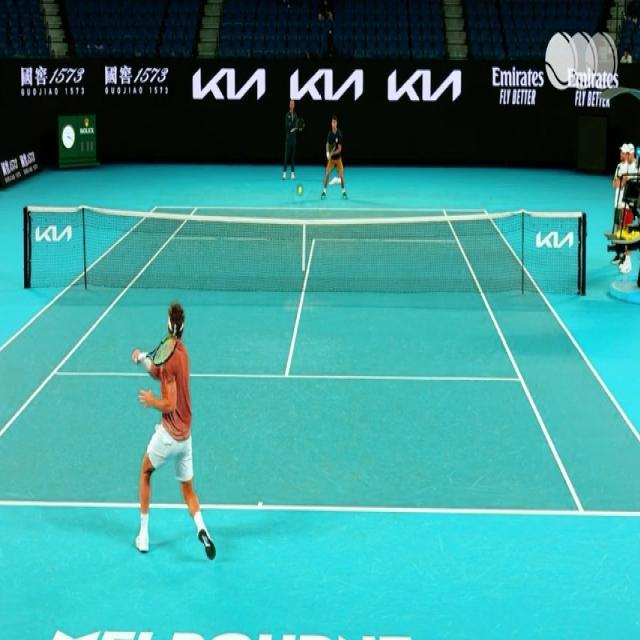forehand-finish: (130, 291, 216, 573)
